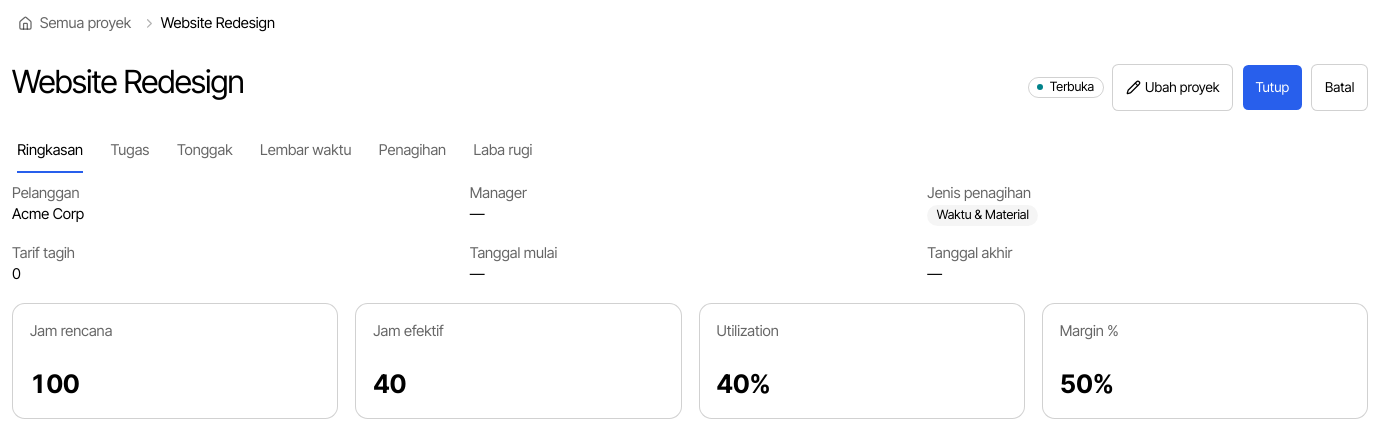
it: ProjectDetail branches4 › falls back to a unit rate when the billable rate is zero
This screenshot has width=1378, height=436.
Expected: the heading "Website Redesign" is shown, [12,64,244,100]
Step 1. Click the tab "Penagihan" → point(412, 151), box [378,128,447,174]
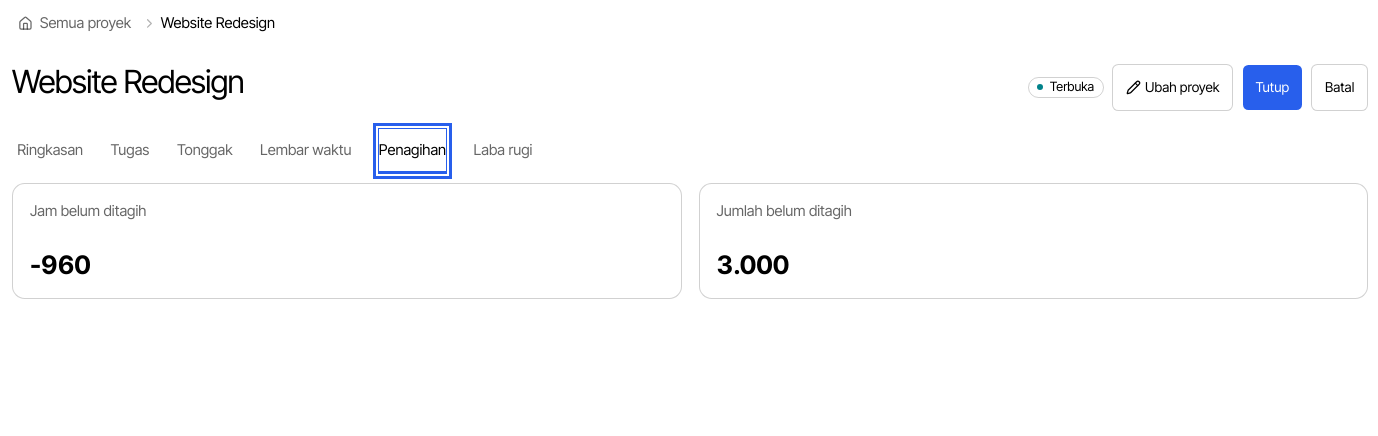
Expected: the text "Jam belum ditagih" is shown, [30,202,146,220]
